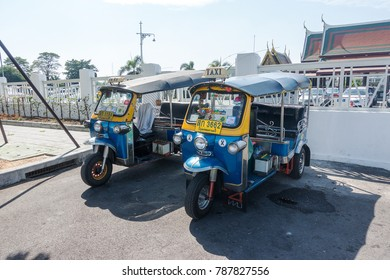threewheel: (172, 72, 311, 220), (80, 70, 206, 186)
